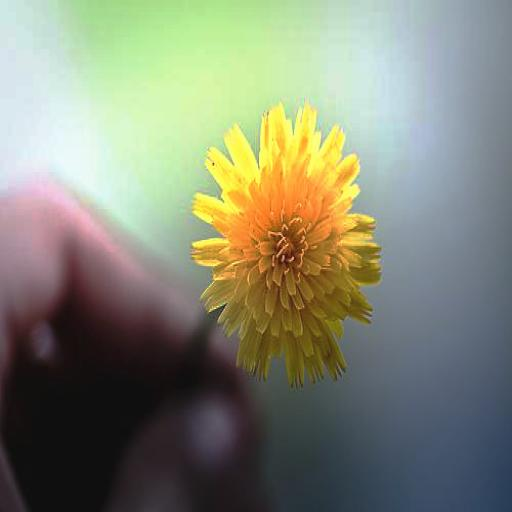dandelion: (190, 106, 379, 381)
